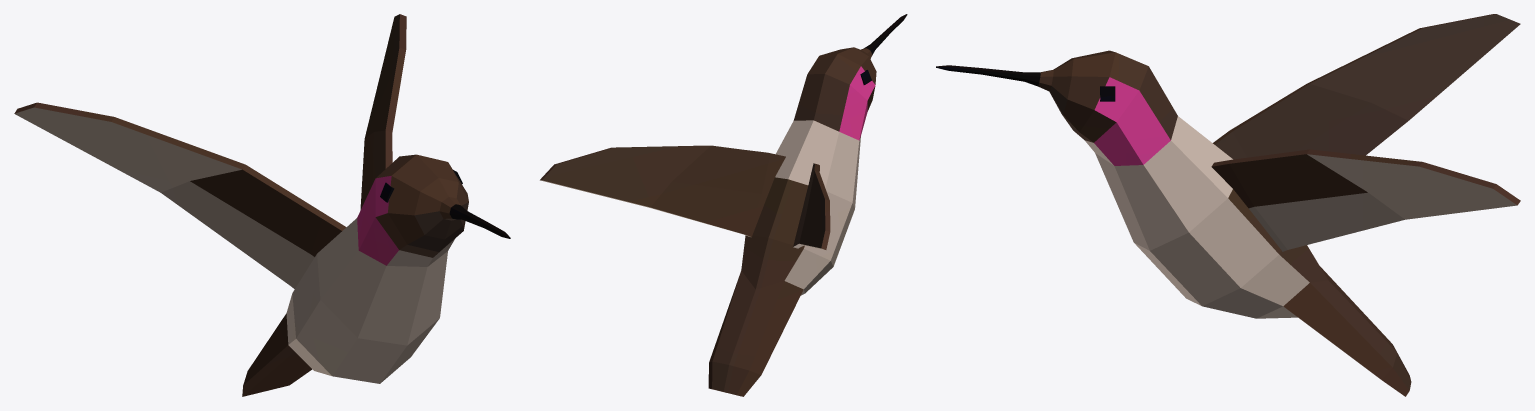
The model's file is animals-hummingbird-131.glb.
3 views of the same model, side by side, from view 1: azimuth 30°, elevation 25°; view 2: azimuth 150°, elevation 25°; view 3: azimuth 270°, elevation 25° (orthographic). The views are drawn at different scales.
Visible parts, largest first — view 1: Geo_Hummingbird; view 2: Geo_Hummingbird; view 3: Geo_Hummingbird.
Boxes of the visible parts, x1,y1,x2,y2 form: Geo_Hummingbird: (14, 14, 510, 396); Geo_Hummingbird: (540, 14, 907, 396); Geo_Hummingbird: (936, 14, 1520, 396).
Bounding box in the file's own units: 91.68 × 78.54 × 125.
Materials: 1 (1 with a texture image).
